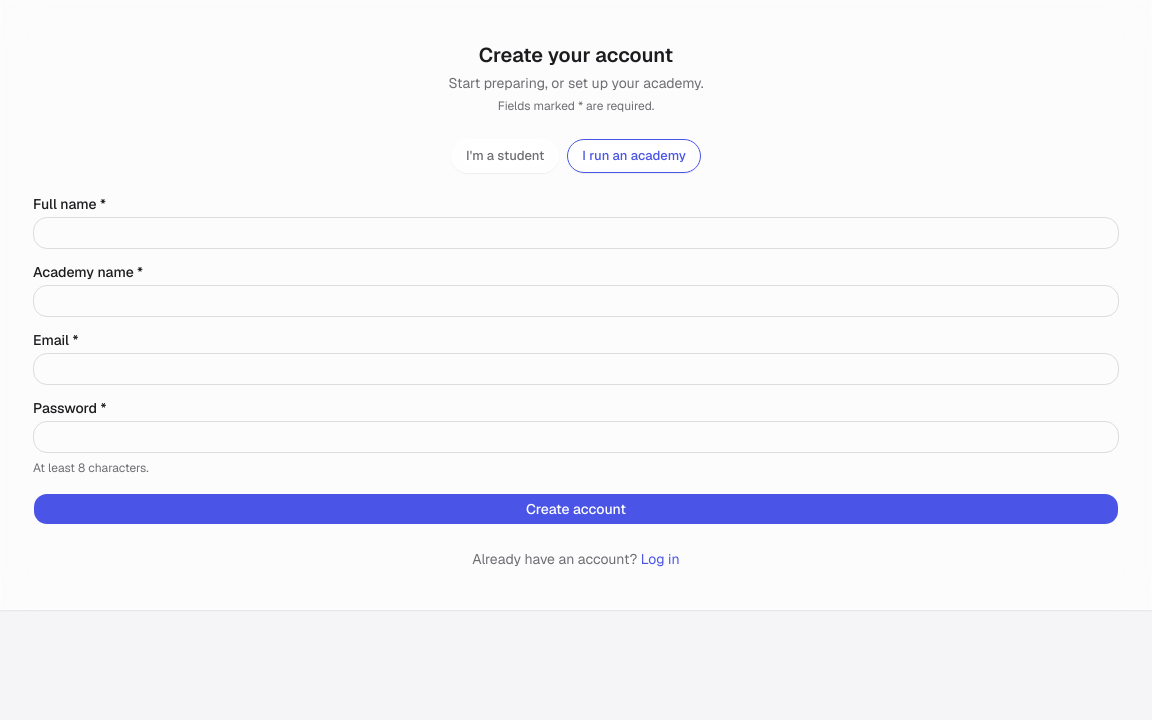
SignupForm: required fields and field-specific errors › requires an academy name for an academy account
The width and height of the screenshot is (1152, 720).
Type "New Cadet" into the field labelled "Full name *" at (576, 232), box 33,216 -> 1119,248
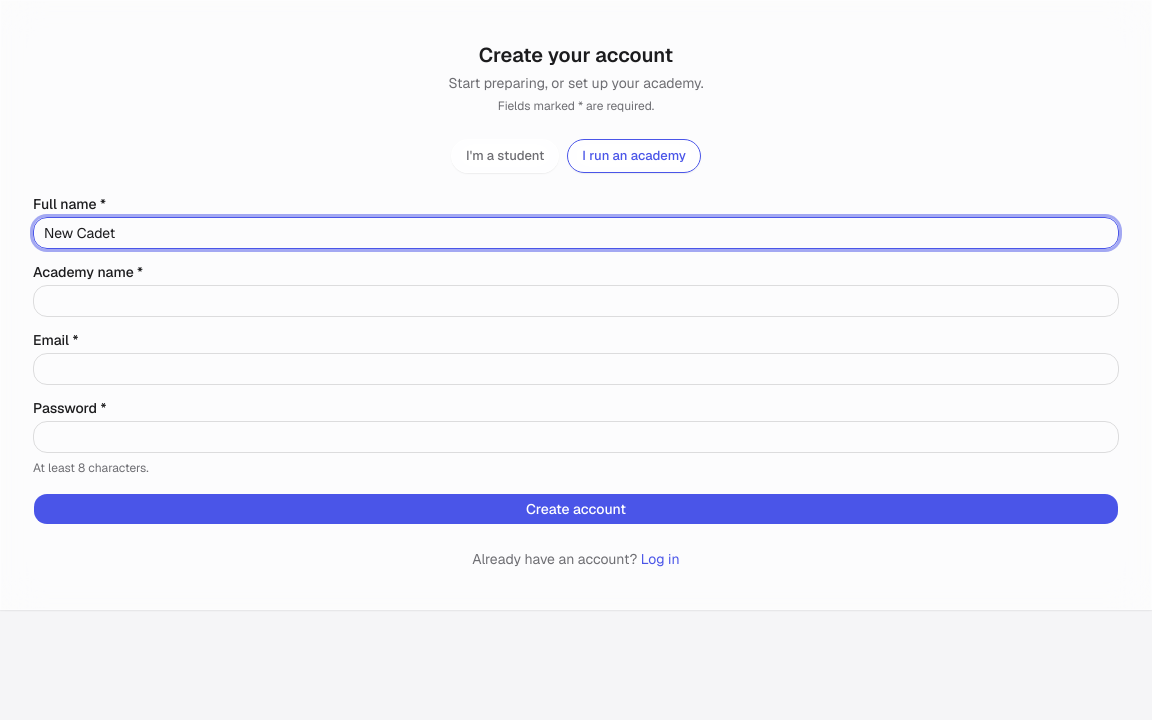
Type "new@example.com" into the field labelled "Email *" at (576, 368), box 33,352 -> 1119,384
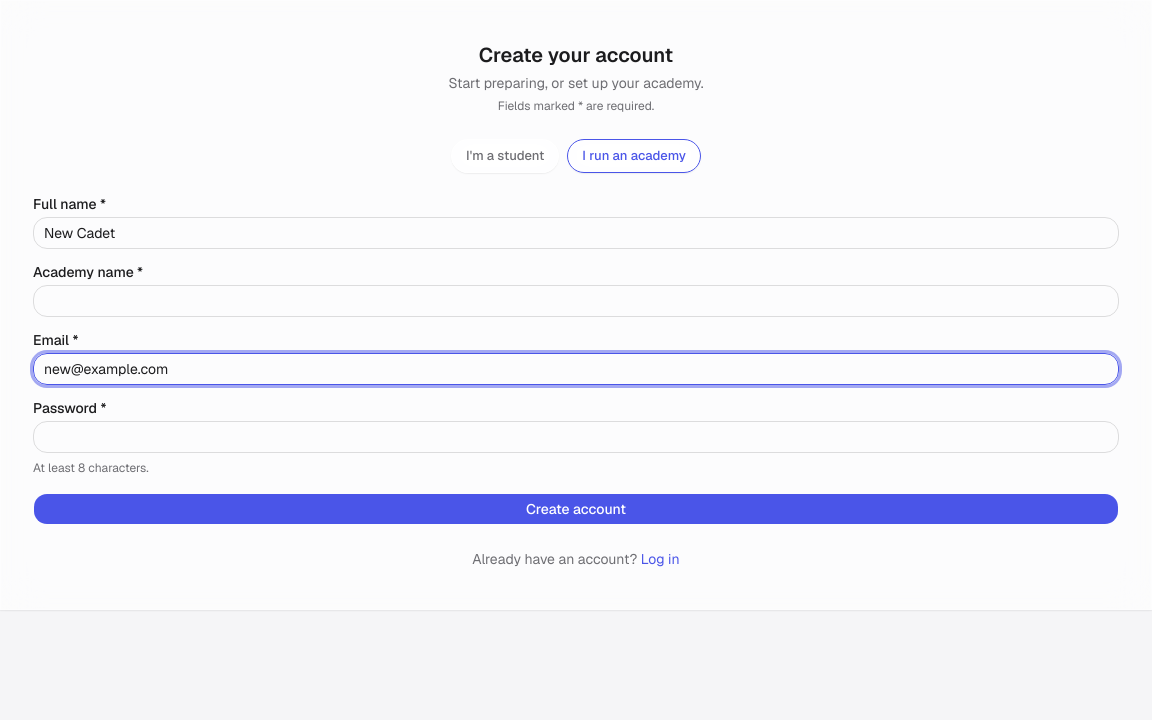
Type "correcthorse" into the password field labelled "Password *" at (576, 436), box 33,420 -> 1119,452
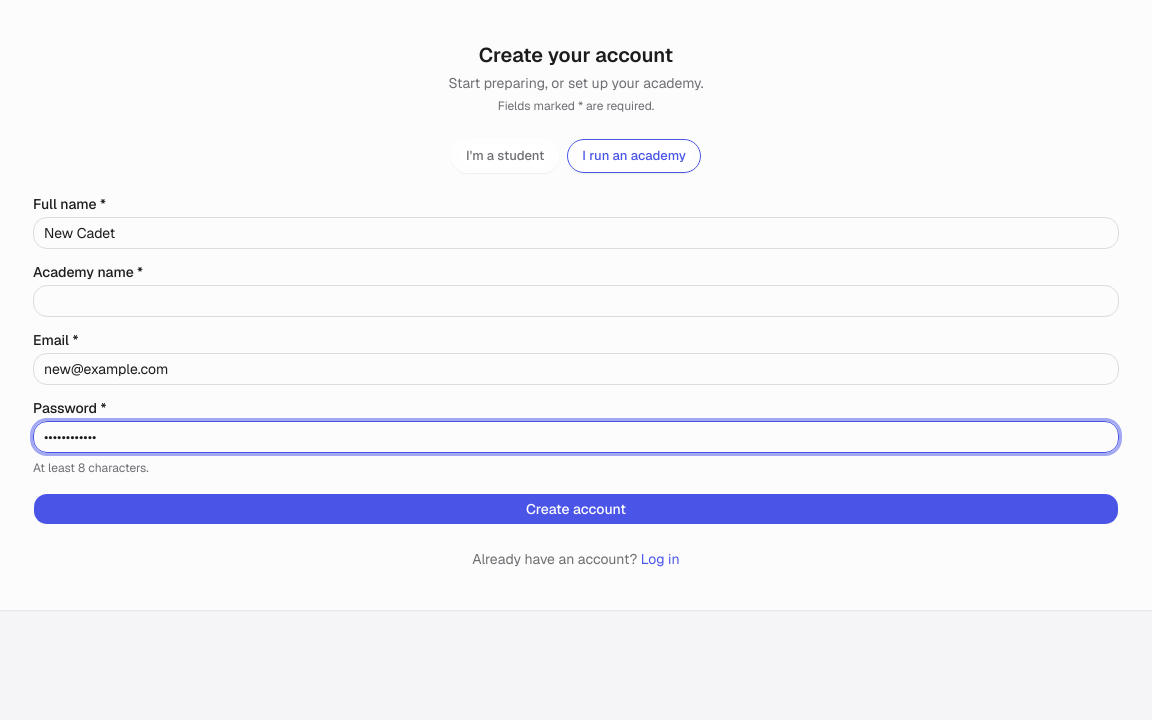
Click the button "Create account" at (576, 508), box 33,492 -> 1119,524
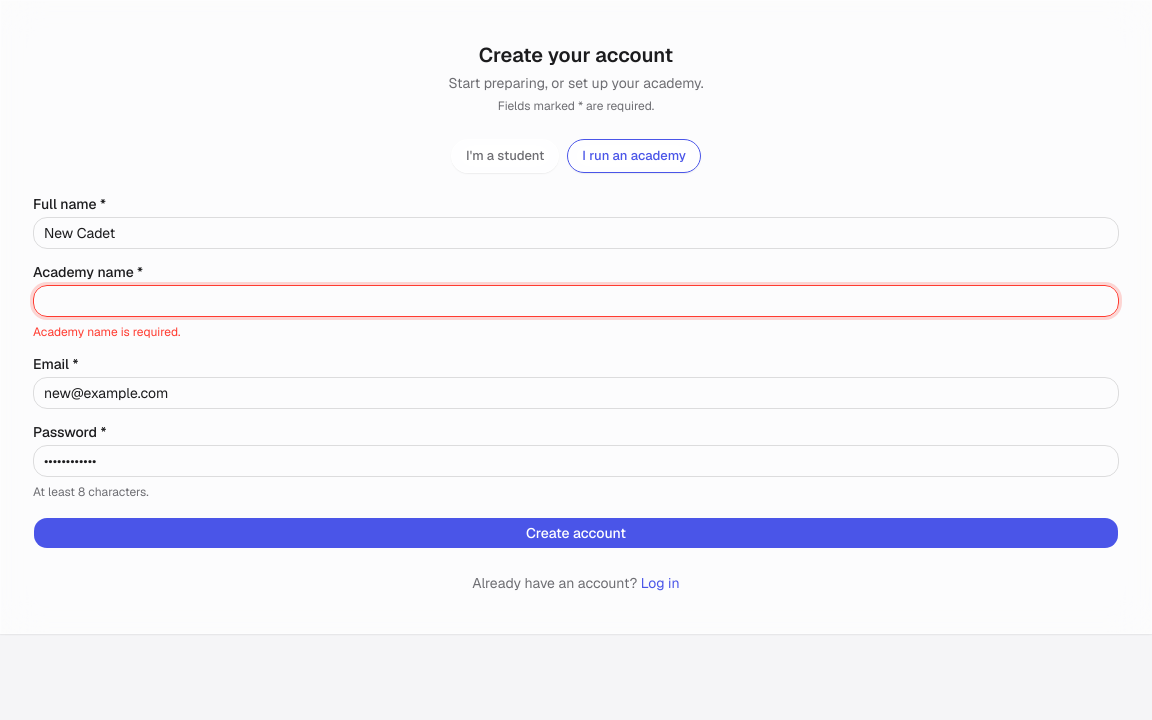
Result: the text "Academy name is required." is shown at 33,324 -> 180,340
